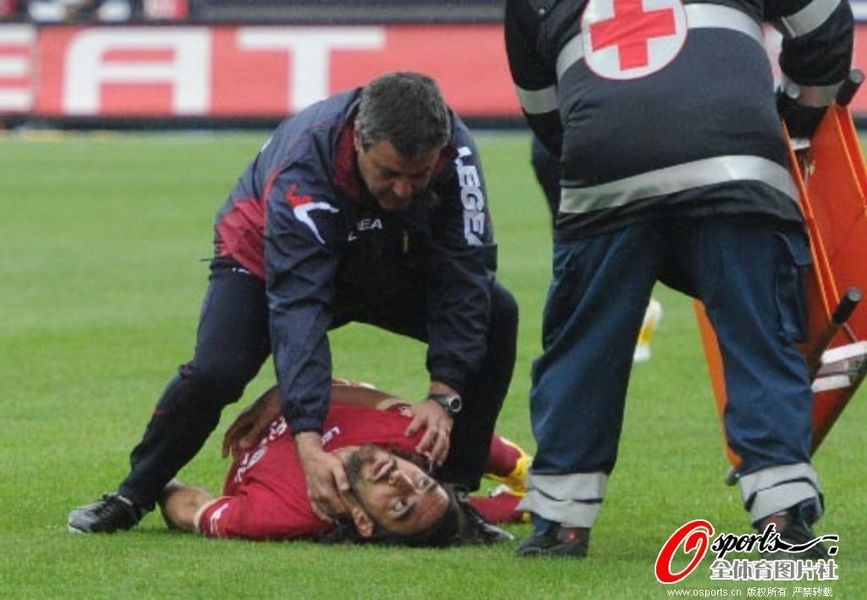falling: (140, 357, 544, 551)
